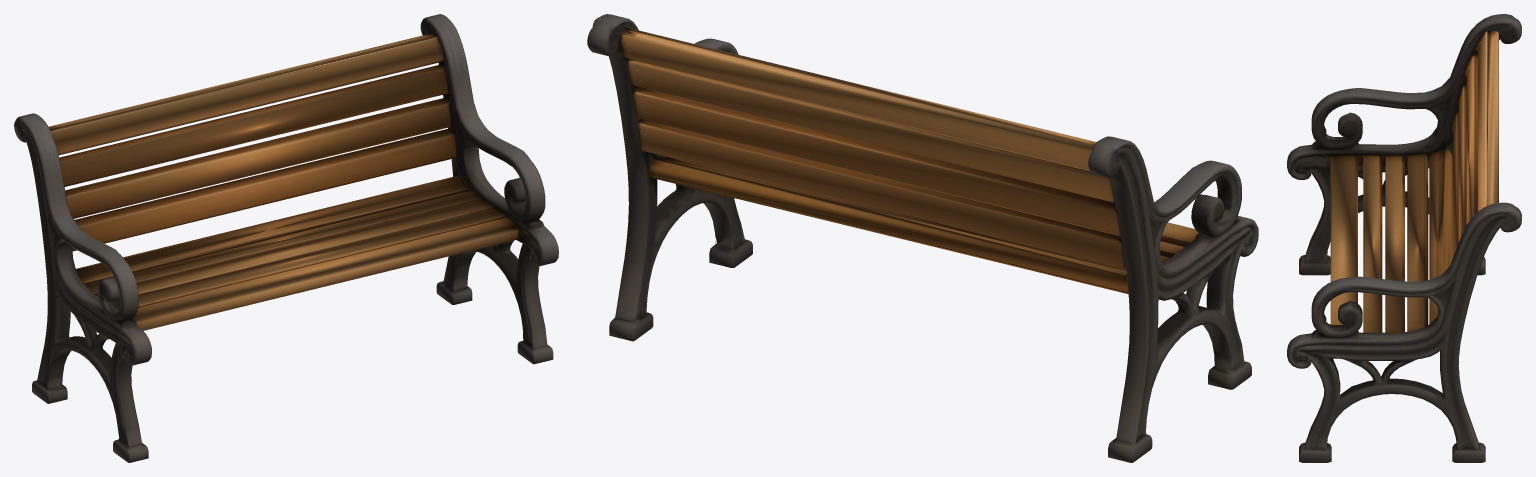
The model's file is bench_a0d4ec94_v1.glb.
3 views of the same model, side by side, from view 1: azimuth 30°, elevation 25°; view 2: azimuth 150°, elevation 25°; view 3: azimuth 270°, elevation 25° (orthographic). The views are drawn at different scales.
Visible parts, largest first — view 1: mesh_input; view 2: mesh_input; view 3: mesh_input.
Boxes of the visible parts, left/top/right/bottom form: mesh_input: left=14, top=14, right=558, bottom=462; mesh_input: left=587, top=14, right=1258, bottom=462; mesh_input: left=1287, top=14, right=1521, bottom=462.
Size of the model in its own units: 1.9 by 1.14 by 0.957.
Materials: 1 (1 with a texture image).
